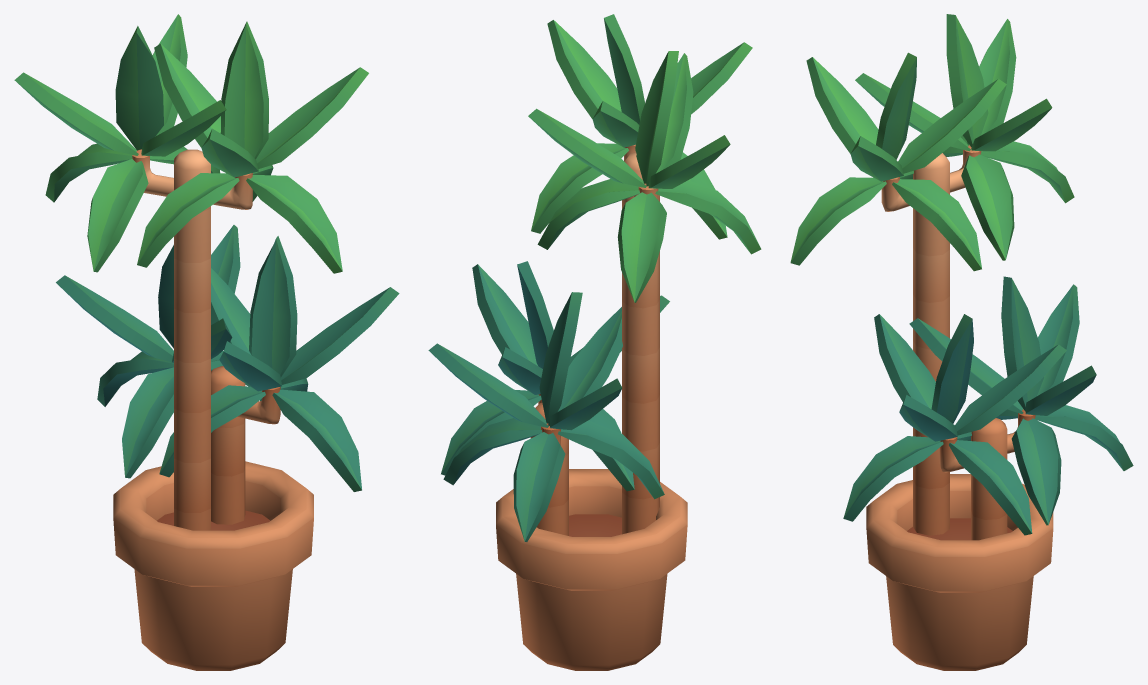
File: Yucca Plant-uKRTMhxfiu.glb
3 views of the same model, side by side, from view 1: azimuth 30°, elevation 25°; view 2: azimuth 150°, elevation 25°; view 3: azimuth 270°, elevation 25° (orthographic). The views are drawn at different scales.
Parts seen in each view (by area): view 1: yucca_plant_small_potted; view 2: yucca_plant_small_potted; view 3: yucca_plant_small_potted.
Part boxes in pixels (x1=…): yucca_plant_small_potted: x1=14, y1=14, x2=399, y2=670; yucca_plant_small_potted: x1=428, y1=14, x2=761, y2=670; yucca_plant_small_potted: x1=790, y1=14, x2=1133, y2=670.
Size of the model in its own units: 0.9422 by 1.76 by 0.9171.
Materials: 1 (1 with a texture image).
